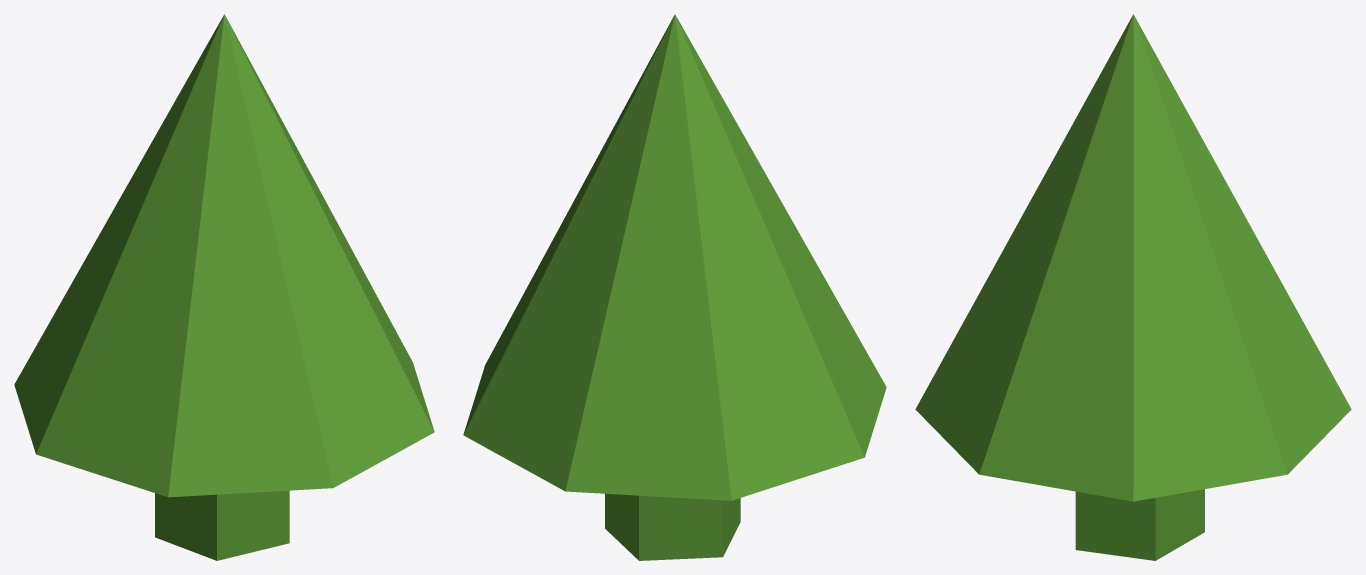
File: Tree_Cone_Merged_1.glb
3 views of the same model, side by side, from view 1: azimuth 30°, elevation 25°; view 2: azimuth 150°, elevation 25°; view 3: azimuth 270°, elevation 25° (orthographic).
Visible parts, largest first — view 1: Cylinder; view 2: Cylinder; view 3: Cylinder.
Boxes of the visible parts, bbox=[...] form: Cylinder: bbox=[14, 14, 434, 560]; Cylinder: bbox=[463, 14, 886, 560]; Cylinder: bbox=[915, 14, 1351, 560].
Bounding box in the file's own units: 1.27 × 1.67 × 1.27.
